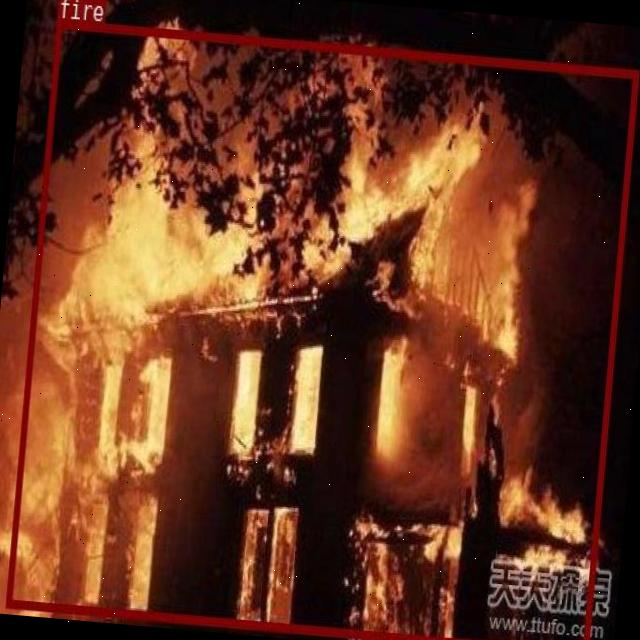fire: (5, 17, 638, 640)
